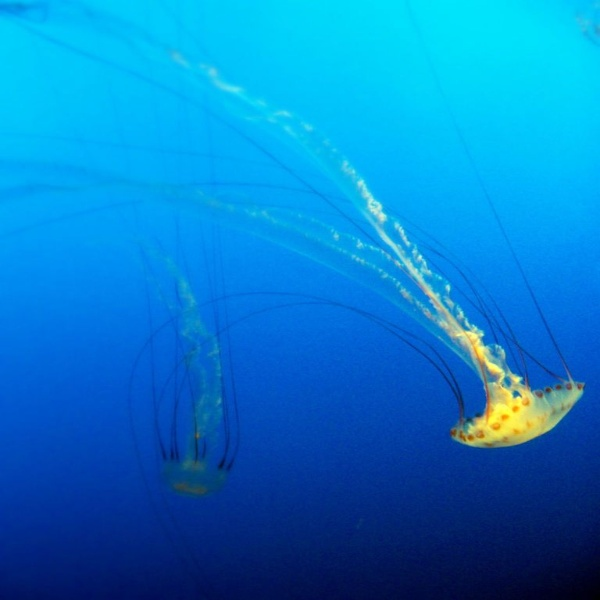Jellyfish: (0, 0, 588, 449), (83, 2, 248, 498), (156, 21, 238, 489)
